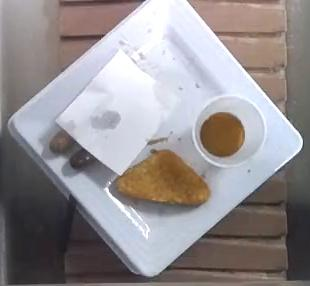hash: (116, 149, 208, 204)
sausage: (49, 130, 75, 153), (70, 149, 96, 169)
